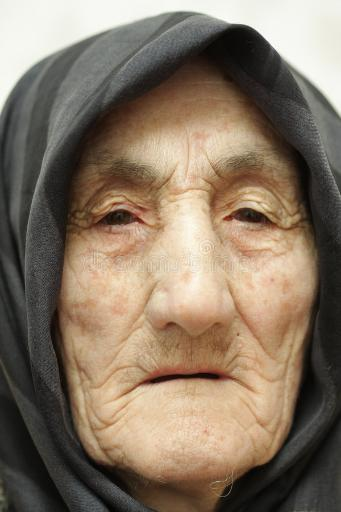left_eye: (224, 205, 279, 234)
left_lip_corner: (217, 368, 244, 385)
right_eye: (94, 208, 144, 235)
right_lip_corner: (141, 370, 169, 390)
